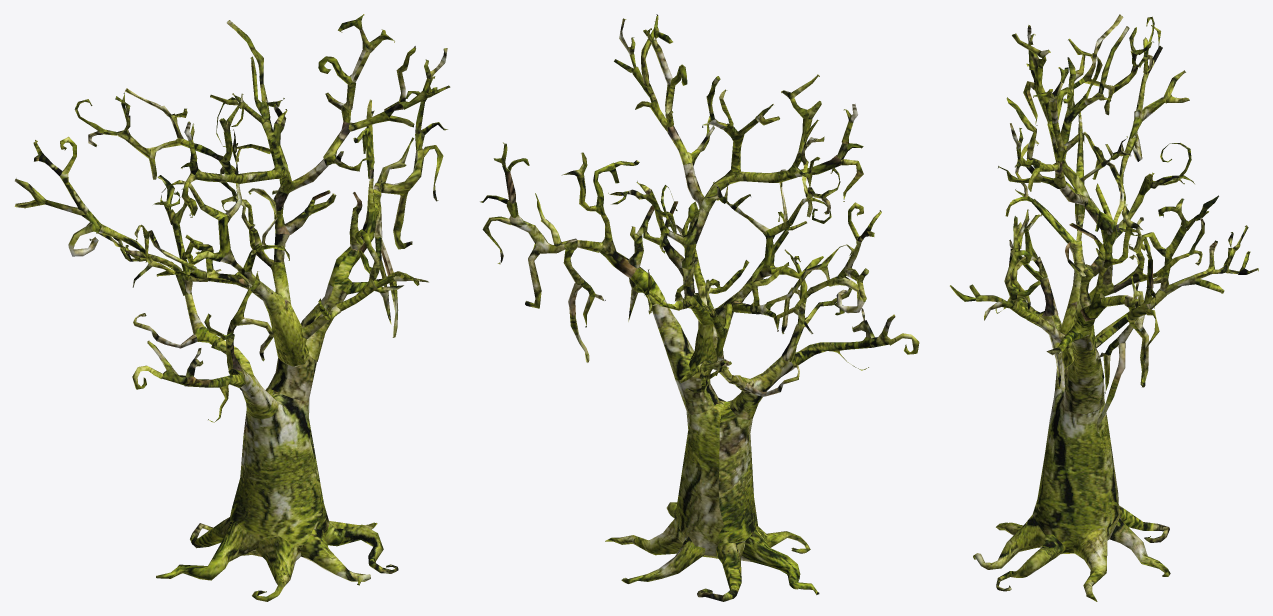
The model's file is tree2.obj.
3 views of the same model, side by side, from view 1: azimuth 30°, elevation 25°; view 2: azimuth 150°, elevation 25°; view 3: azimuth 270°, elevation 25° (orthographic). The views are drawn at different scales.
Visible parts, largest first — view 1: defaultMaterial; view 2: defaultMaterial; view 3: defaultMaterial.
Part boxes in pixels (x1,y1,x2,y2): defaultMaterial: (14, 14, 450, 601); defaultMaterial: (480, 14, 919, 601); defaultMaterial: (950, 14, 1258, 601).
Bounding box in the file's own units: 6.13 × 7.5 × 4.04.
Materials: 1 (1 with a texture image).
